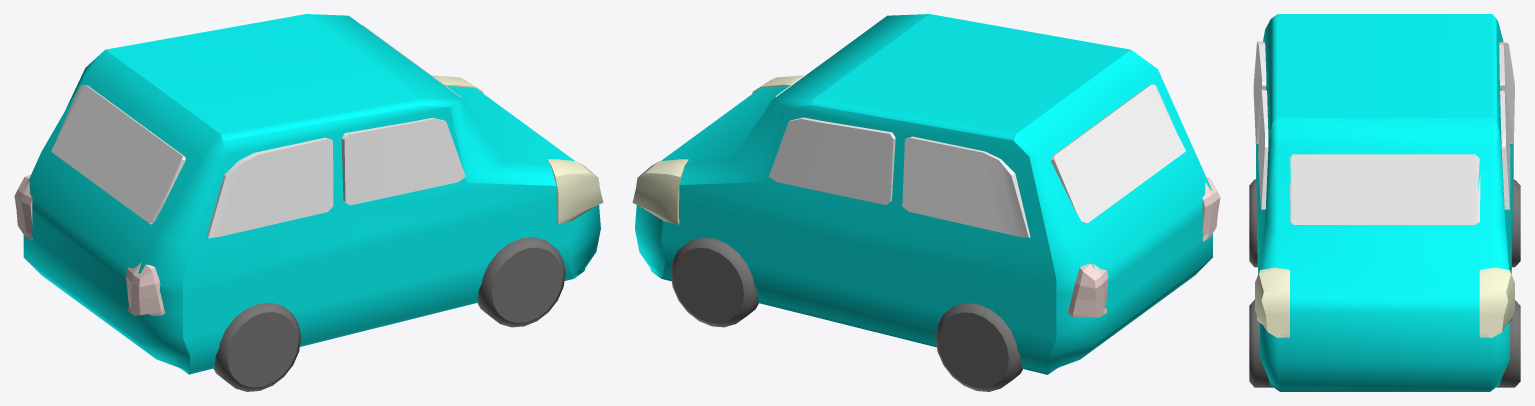
The model's file is CarroAzul.fbx.
3 renders of one model, left to right at view 1: azimuth 30°, elevation 25°; view 2: azimuth 150°, elevation 25°; view 3: azimuth 270°, elevation 25°, orthographic. The views are drawn at different scales.
Visible parts, largest first — view 1: pCube1, pCube10, pCube7, pCube8, pCylinder1, pCylinder2, pCube9, pCube11; view 2: pCube1, pCube10, pCube4, pCube3, pCylinder3, pCylinder4, pCube9, pCube11; view 3: pCube1, pCube6, pCube9, pCube4, pCylinder1, pCylinder3, pCube8, pCube3, pCube7, pCylinder4, pCylinder2.
Part boxes in pixels (x1,y1,x2,y2): pCube1: [23, 14, 600, 374]; pCube10: [51, 85, 185, 224]; pCube7: [206, 137, 333, 238]; pCube8: [341, 118, 465, 205]; pCylinder1: [477, 237, 565, 327]; pCylinder2: [213, 302, 300, 391]; pCube9: [432, 75, 603, 224]; pCube11: [14, 175, 165, 315]; pCube1: [635, 14, 1212, 374]; pCube10: [1050, 84, 1185, 223]; pCube4: [902, 136, 1030, 237]; pCube3: [768, 117, 895, 204]; pCylinder3: [670, 237, 758, 327]; pCylinder4: [935, 303, 1022, 391]; pCube9: [632, 75, 803, 224]; pCube11: [1068, 178, 1220, 317]; pCube1: [1256, 14, 1513, 391]; pCube6: [1289, 154, 1480, 224]; pCube9: [1255, 267, 1514, 337]; pCube4: [1499, 42, 1514, 143]; pCylinder1: [1249, 299, 1273, 387]; pCylinder3: [1496, 300, 1520, 387]; pCube8: [1258, 90, 1268, 209]; pCube3: [1500, 90, 1510, 209]; pCube7: [1253, 41, 1266, 143]; pCylinder4: [1512, 179, 1520, 267]; pCylinder2: [1249, 179, 1257, 267].
Size of the model in its own units: 20.49 by 10.7 by 11.09.
